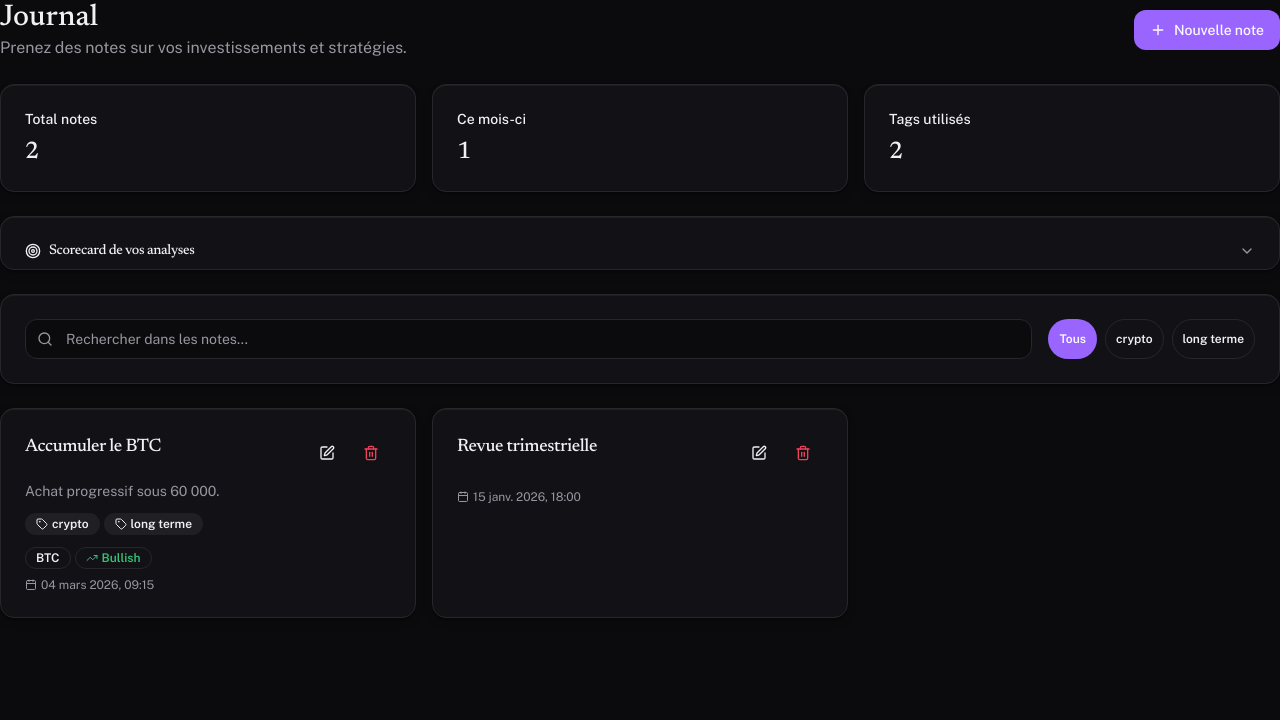
NotesPage — défauts corrigés › le sélecteur d’actifs distingue les plateformes et ne répète pas le symbole
This screenshot has width=1280, height=720.
Check: the heading "Accumuler le BTC" is shown, box [25, 433, 161, 461]
Click the button "Nouvelle note" at (1207, 30), box [1134, 10, 1279, 50]
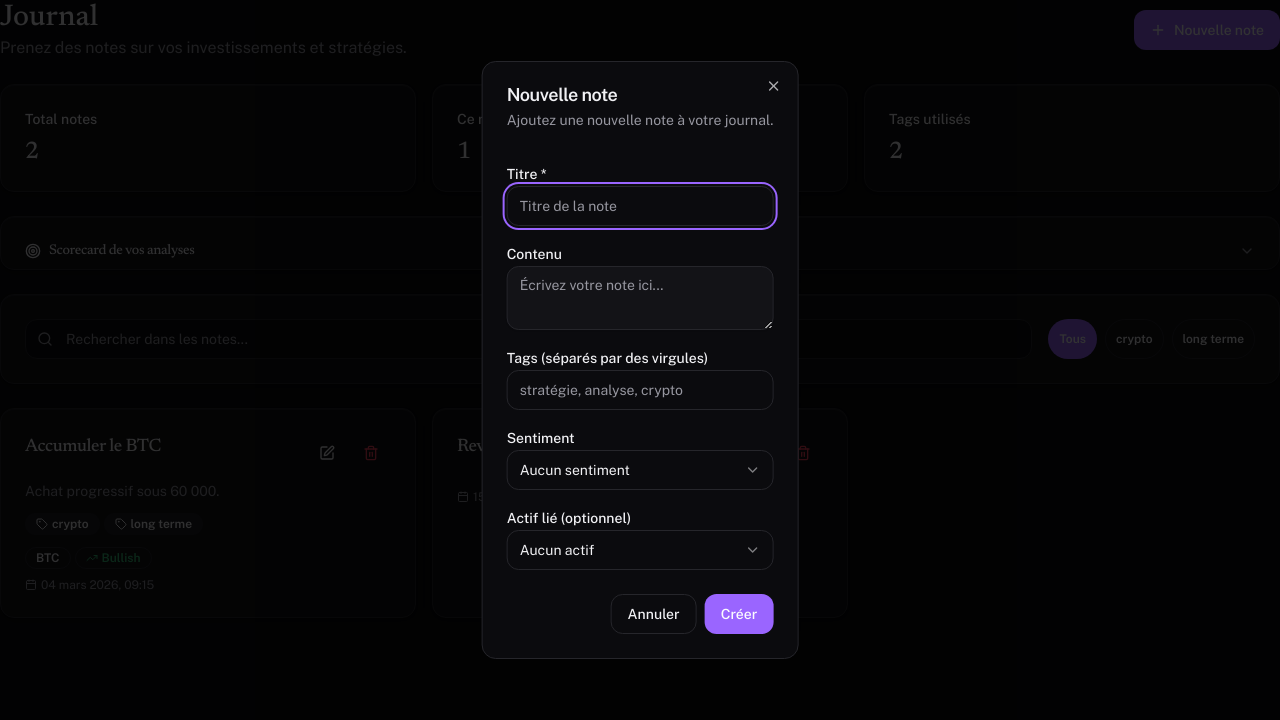
Press Enter in the dropdown labelled "Aucun actif", box [507, 530, 773, 570]
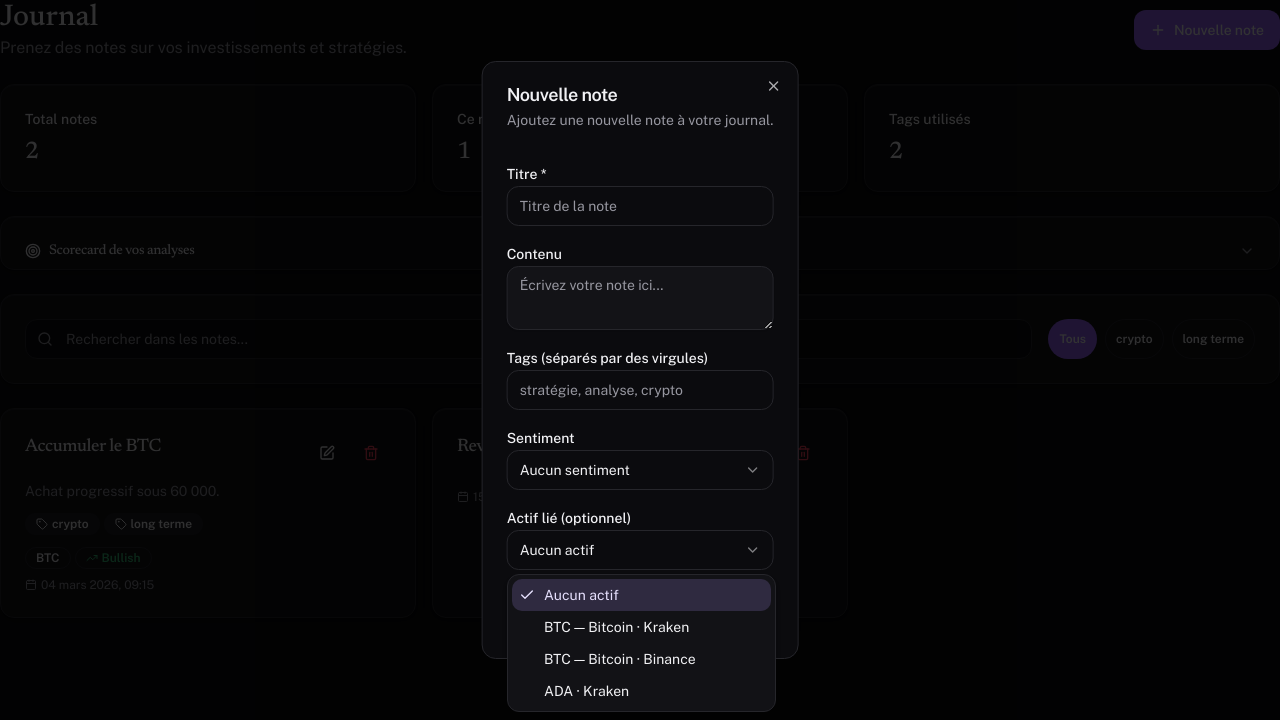
Check: the options read "Aucun actif", "BTC — Bitcoin · Kraken", "BTC — Bitcoin · Binance", "ADA · Kraken", in this order, box [512, 579, 771, 611]; [544, 619, 689, 635]; [544, 651, 696, 667]; [544, 683, 629, 699]
